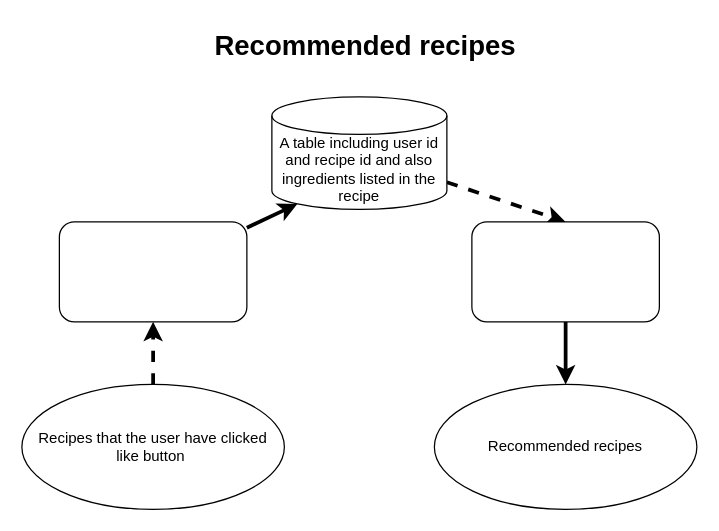
Some shapes in this 719 by 531 pixel diagram are drawn without their labels. The centre of each missing label's shape, as x and y in pixels:
"Convert clicks into recipes the user interested in; extract into database" goes at [152,271].
"Select recipes including ingredients that appear most frequently in the database" goes at [565,271].
